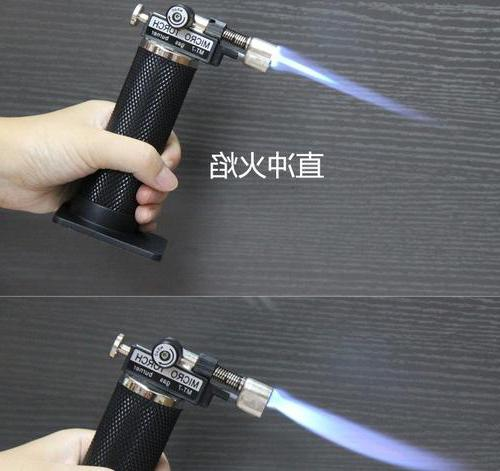fire: (270, 382, 436, 469), (272, 41, 422, 128)
